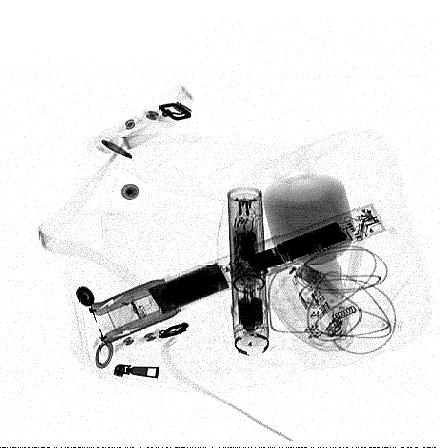Baton: (87, 202, 387, 346), (226, 185, 270, 357)
